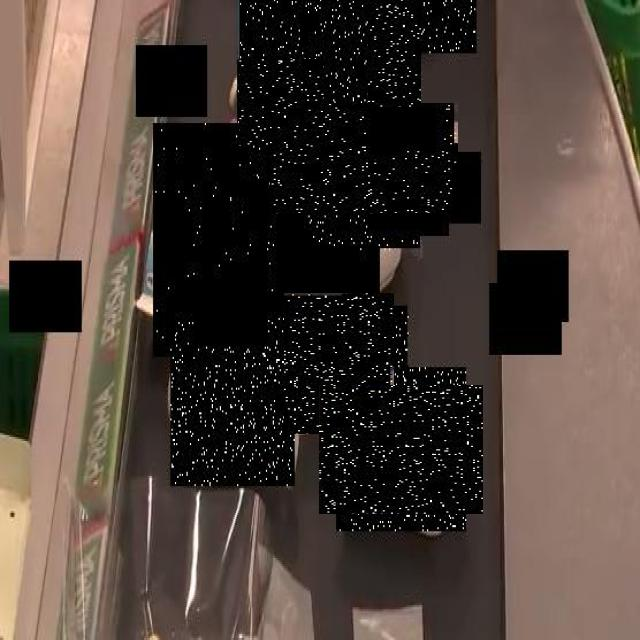beverage: (153, 124, 284, 360), (239, 0, 419, 127)
food-box: (290, 83, 439, 233), (328, 376, 474, 522), (341, 0, 448, 80), (238, 60, 324, 146)
utility-box: (244, 144, 380, 359), (170, 322, 295, 486), (276, 300, 402, 426)
